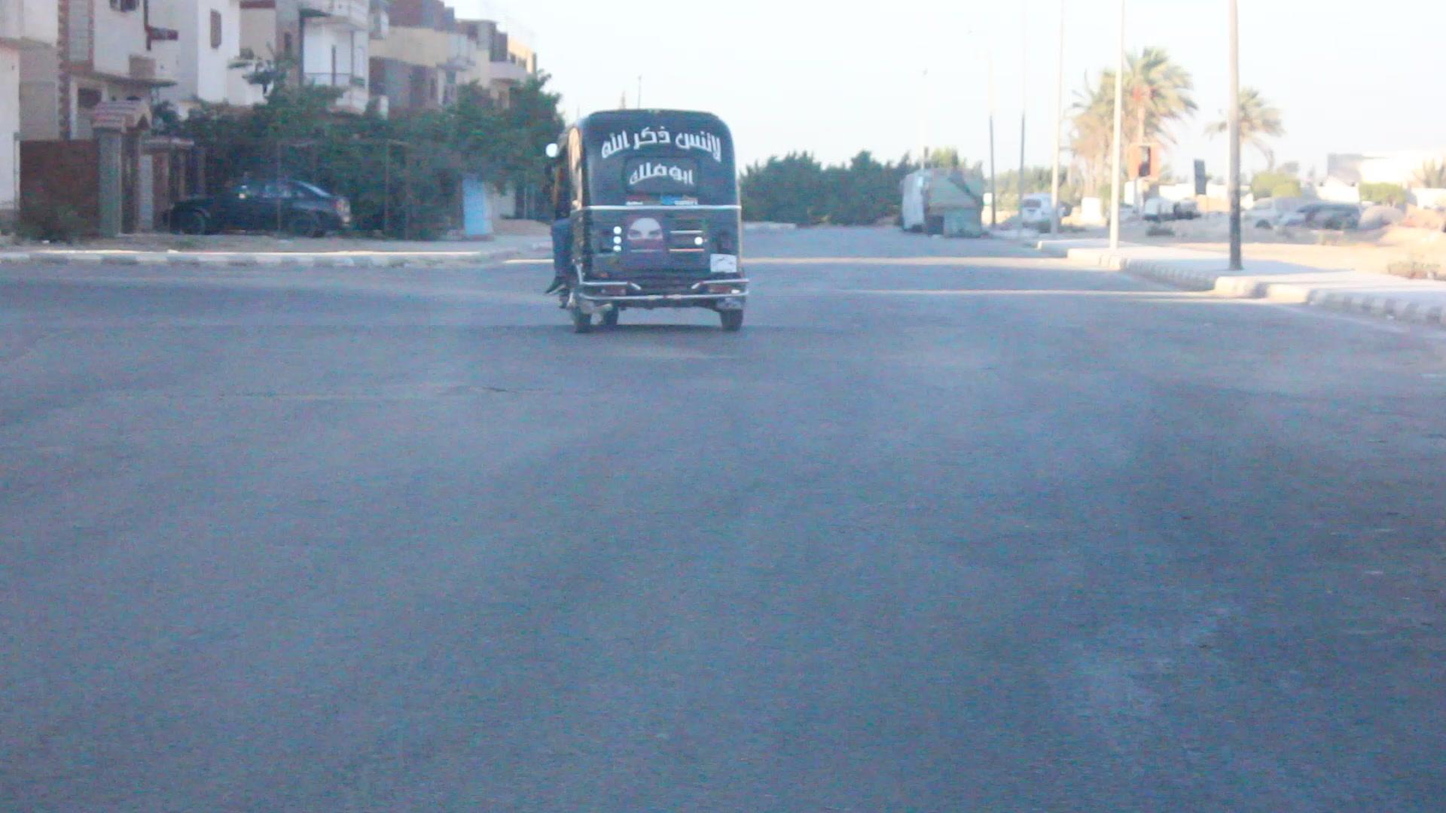Bump: (26, 318, 1408, 380)
